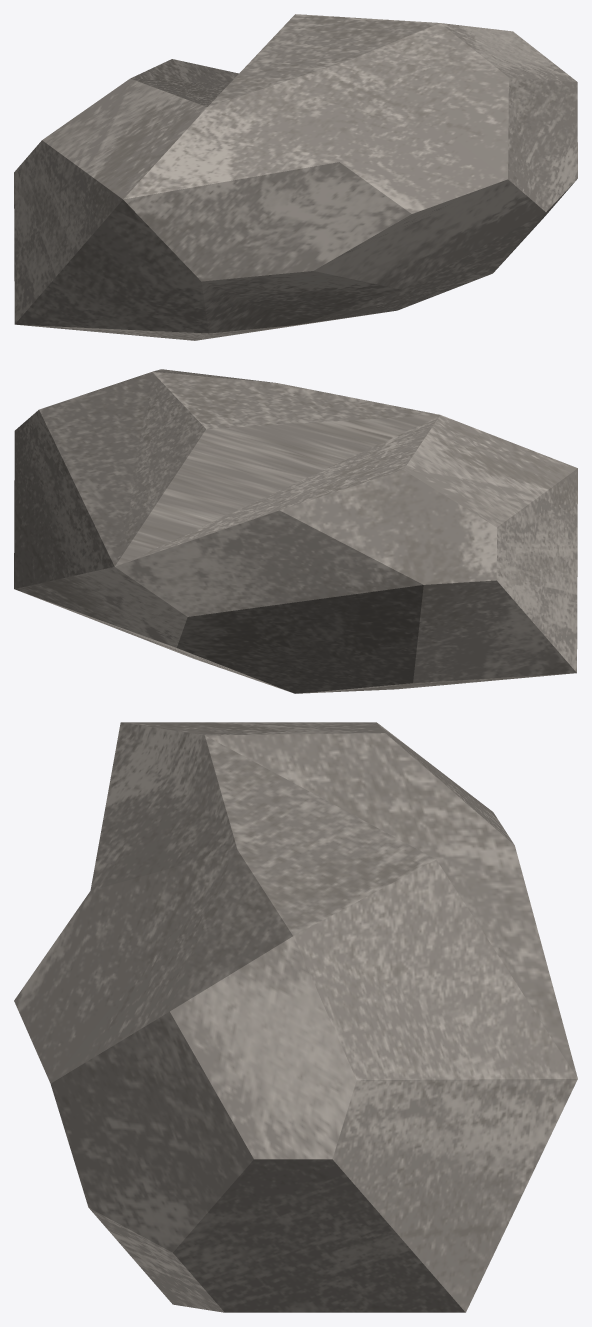
Rendered from Piedra3.fbx.
3 views of the same model, one above another, from view 1: azimuth 30°, elevation 25°; view 2: azimuth 150°, elevation 25°; view 3: azimuth 270°, elevation 25° (orthographic). The views are drawn at different scales.
Visible parts, largest first — view 1: Piedra 2; view 2: Piedra 2; view 3: Piedra 2.
Part boxes in pixels (x1=…): Piedra 2: x1=14, y1=14, x2=577, y2=340; Piedra 2: x1=14, y1=369, x2=577, y2=693; Piedra 2: x1=14, y1=722, x2=577, y2=1312.
Bounding box in the file's own units: 339 × 153 × 191.
